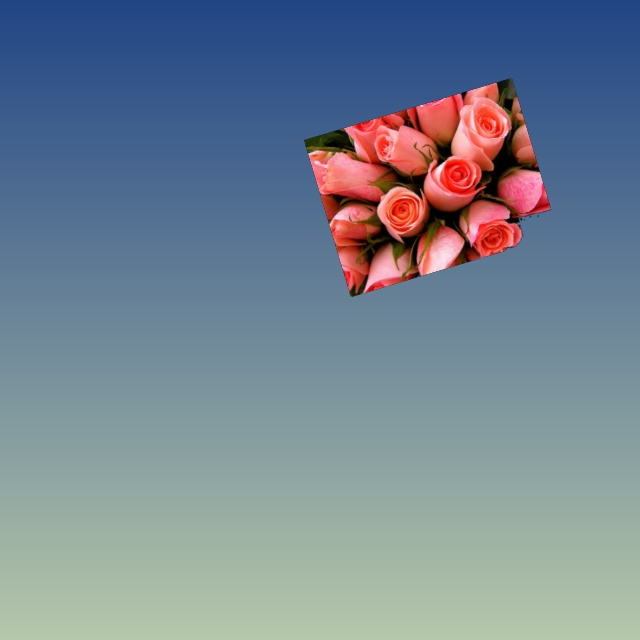rose: (304, 78, 550, 296)
